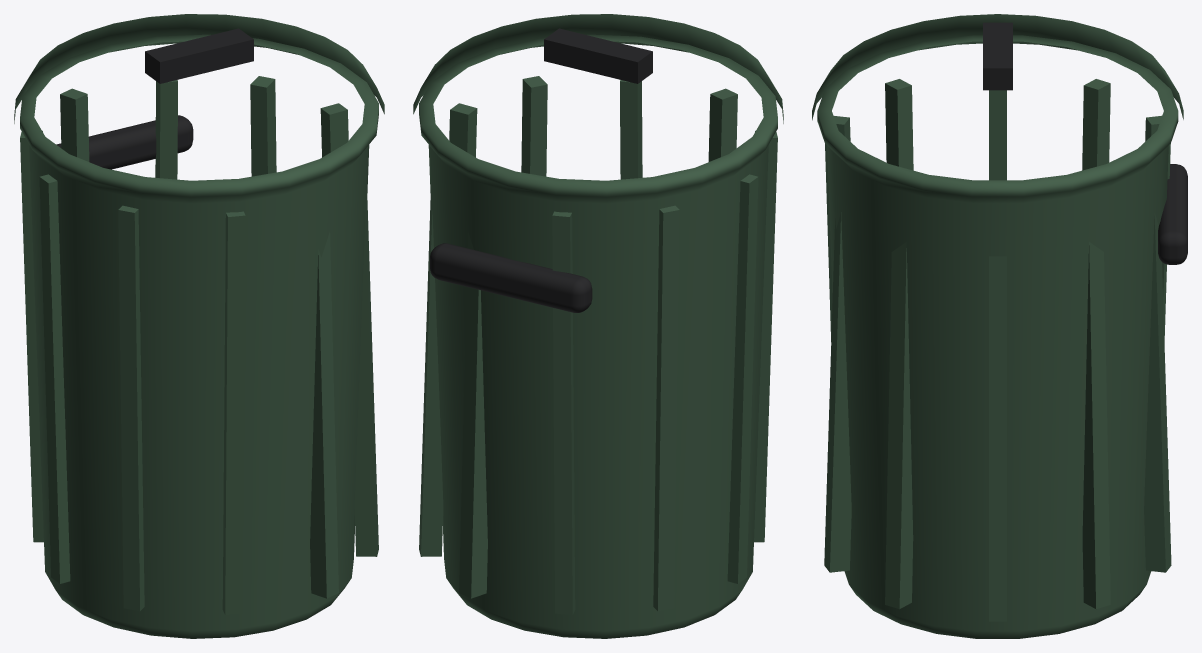
File: TRASH_CAN.glb
The picture shows the model from 3 angles, left to right: view 1: azimuth 30°, elevation 25°; view 2: azimuth 150°, elevation 25°; view 3: azimuth 270°, elevation 25°; orthographic projection.
Parts seen in each view (by area): view 1: plastic_0, tread_1; view 2: plastic_0, tread_1; view 3: plastic_0, tread_1.
Part boxes in pixels (x1=…): plastic_0: x1=14, y1=14, x2=384, y2=638; tread_1: x1=56, y1=28, x2=253, y2=169; plastic_0: x1=413, y1=14, x2=783, y2=638; tread_1: x1=430, y1=28, x2=652, y2=312; plastic_0: x1=812, y1=14, x2=1183, y2=638; tread_1: x1=983, y1=22, x2=1187, y2=264.
Size of the model in its own units: 0.618 by 0.975 by 0.625.
